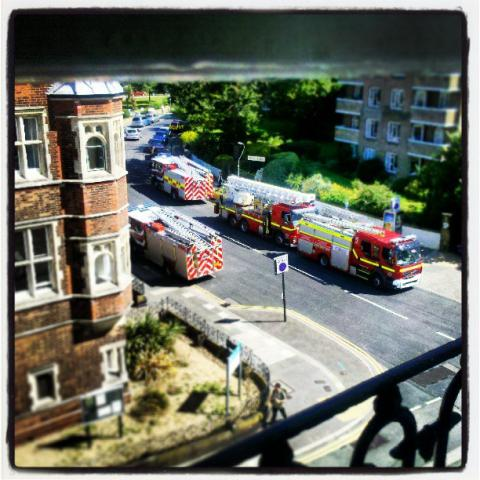car: (145, 146, 172, 161), (132, 114, 152, 128), (126, 128, 142, 140), (146, 113, 160, 124), (159, 126, 171, 136)
truck: (214, 176, 420, 289), (127, 203, 231, 281), (149, 153, 214, 200), (147, 130, 169, 148), (169, 120, 186, 132)
